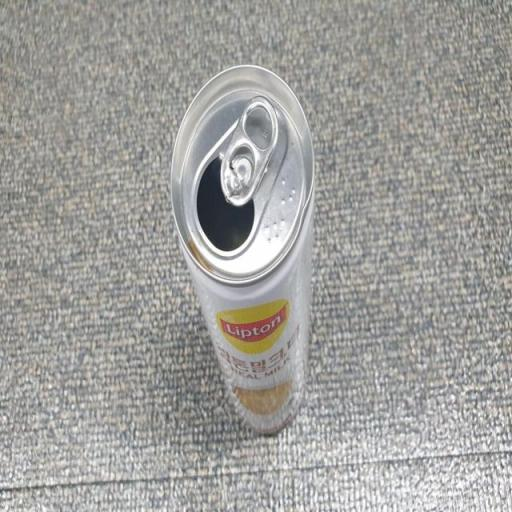metal: (143, 49, 373, 499)
